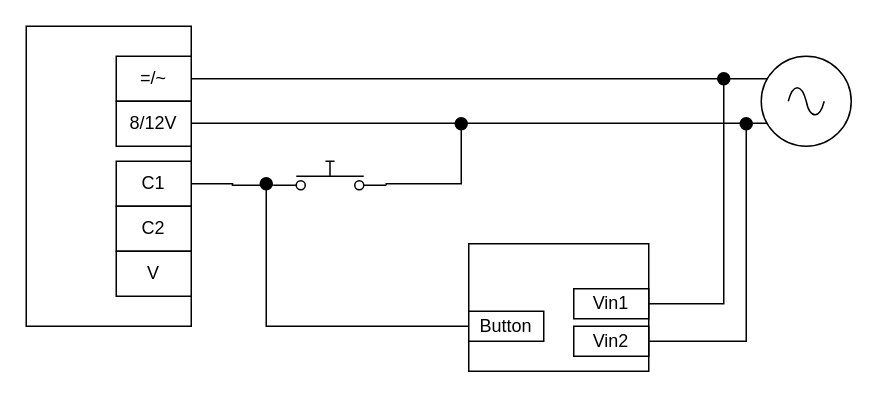
Some shapes in this 878 by 398 pixel diagram are drawn without their labels. Each missing label, with the box of its shape:
Chime: (25, 25, 191, 326)
Doorbell watcher: (467, 242, 649, 371)
